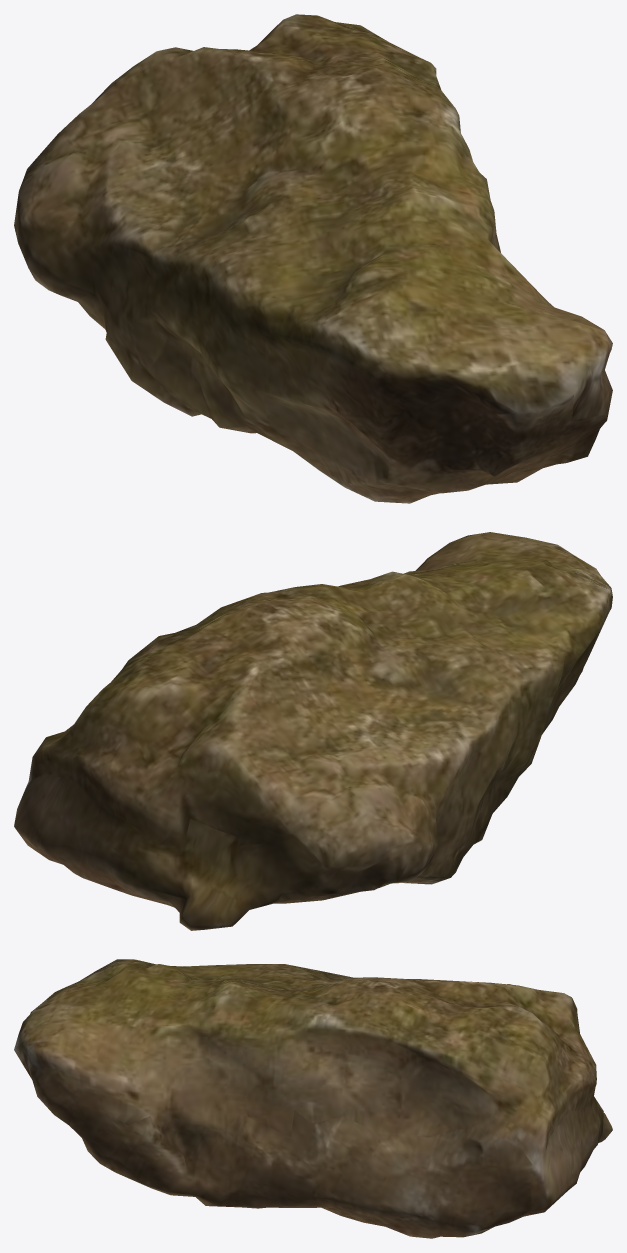
File: rock_4.glb
3 renders of one model, top to bottom at view 1: azimuth 30°, elevation 25°; view 2: azimuth 150°, elevation 25°; view 3: azimuth 270°, elevation 25°, orthographic. The views are drawn at different scales.
Parts seen in each view (by area): view 1: rock_moss_set_01_rock05; view 2: rock_moss_set_01_rock05; view 3: rock_moss_set_01_rock05.
Part boxes in pixels (bbox=[...]): rock_moss_set_01_rock05: bbox=[14, 14, 612, 503]; rock_moss_set_01_rock05: bbox=[14, 532, 612, 930]; rock_moss_set_01_rock05: bbox=[14, 959, 612, 1238].
Size of the model in its own units: 1.81 by 1.21 by 3.01.
Materials: 1 (1 with a texture image).
